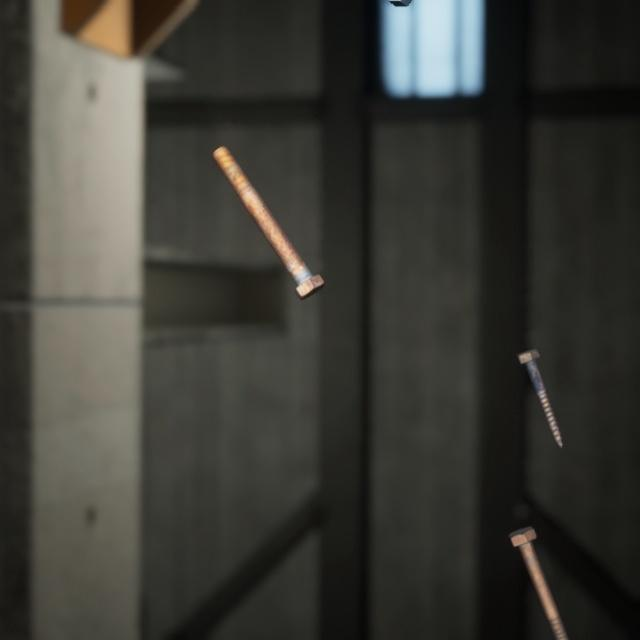bolt: (208, 125, 329, 288), (503, 499, 576, 634), (511, 324, 567, 433)
